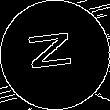N_E: (28, 32, 82, 78)
